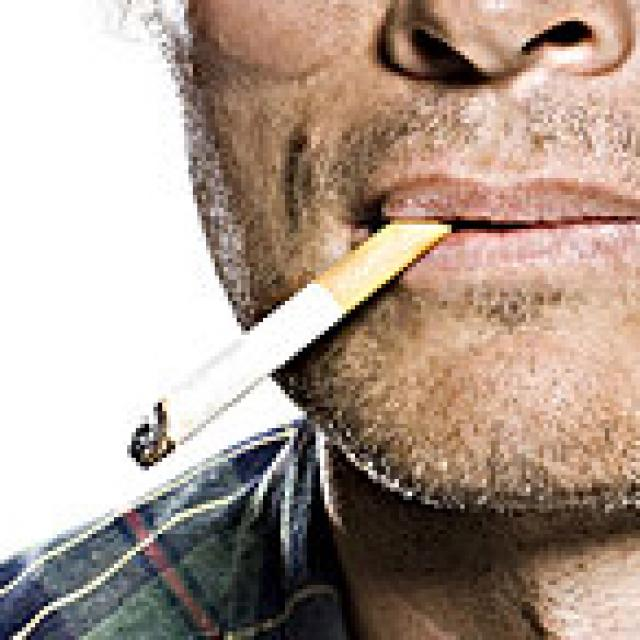smoking: (127, 220, 450, 466)
